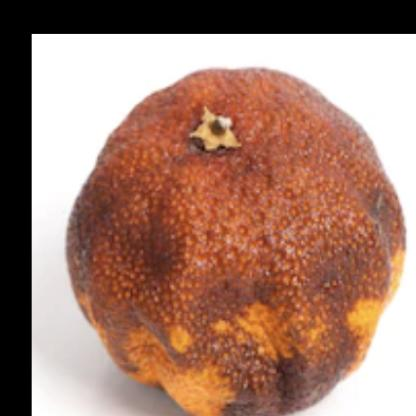rotten: (63, 66, 404, 414)
